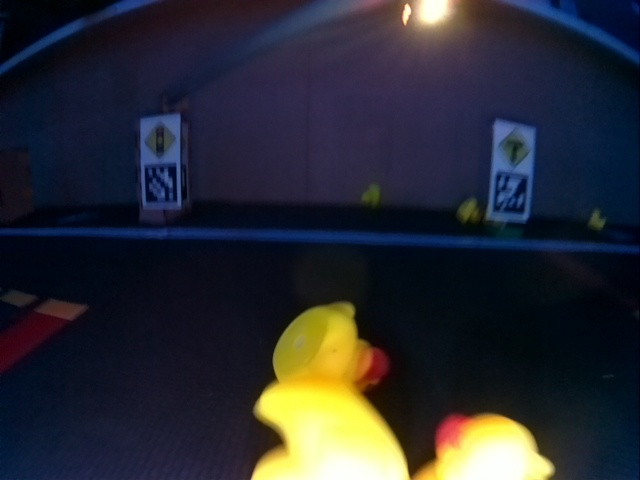Duckie: (253, 383, 410, 480), (411, 412, 556, 479), (273, 304, 388, 379), (460, 198, 480, 220), (363, 184, 381, 205), (590, 213, 605, 228)
Intersection sign: (496, 125, 532, 168)
QR code: (142, 163, 181, 208), (492, 179, 531, 220)
